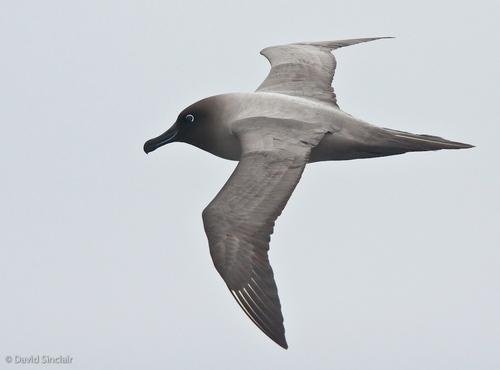bird: (140, 28, 475, 352)
